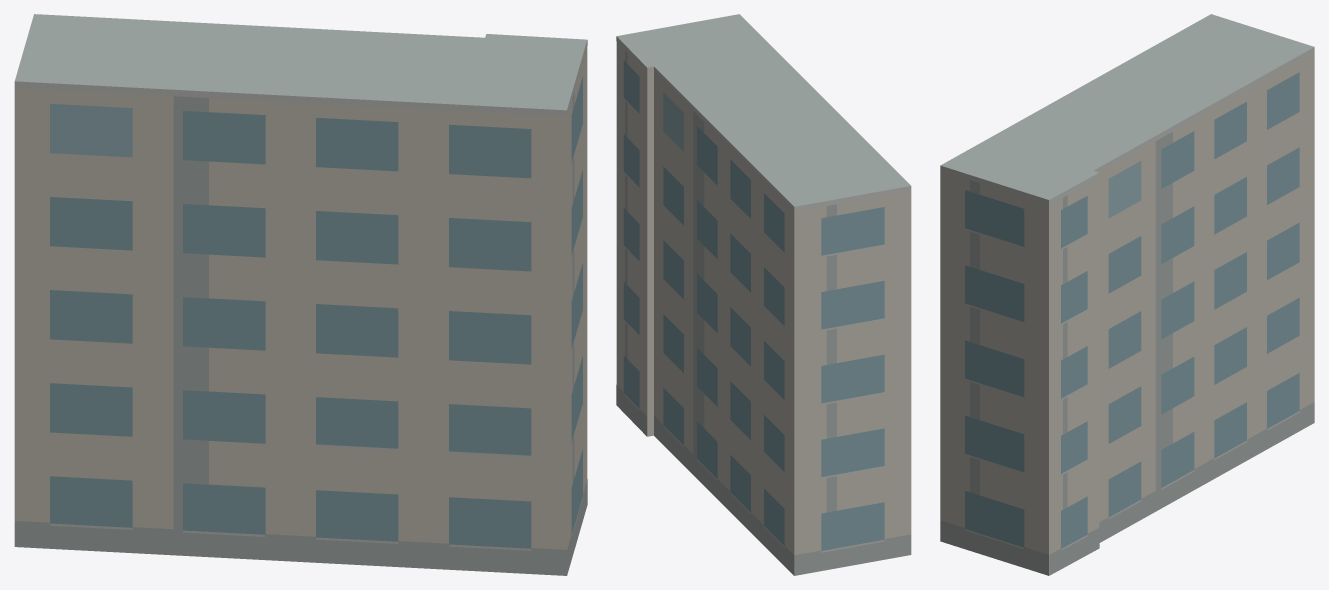
Rendered from survey-upis-32955399.glb.
3 renders of one model, left to right at view 1: azimuth 30°, elevation 25°; view 2: azimuth 150°, elevation 25°; view 3: azimuth 270°, elevation 25°, orthographic. The views are drawn at different scales.
Visible parts, largest first — view 1: survey-upis-32955399.tmp; view 2: survey-upis-32955399.tmp; view 3: survey-upis-32955399.tmp.
Part boxes in pixels (x1,y1,x2,y2): survey-upis-32955399.tmp: (14, 14, 587, 575); survey-upis-32955399.tmp: (616, 14, 911, 575); survey-upis-32955399.tmp: (940, 14, 1314, 575).
Size of the model in its own units: 18.48 by 17.4 by 15.72.
